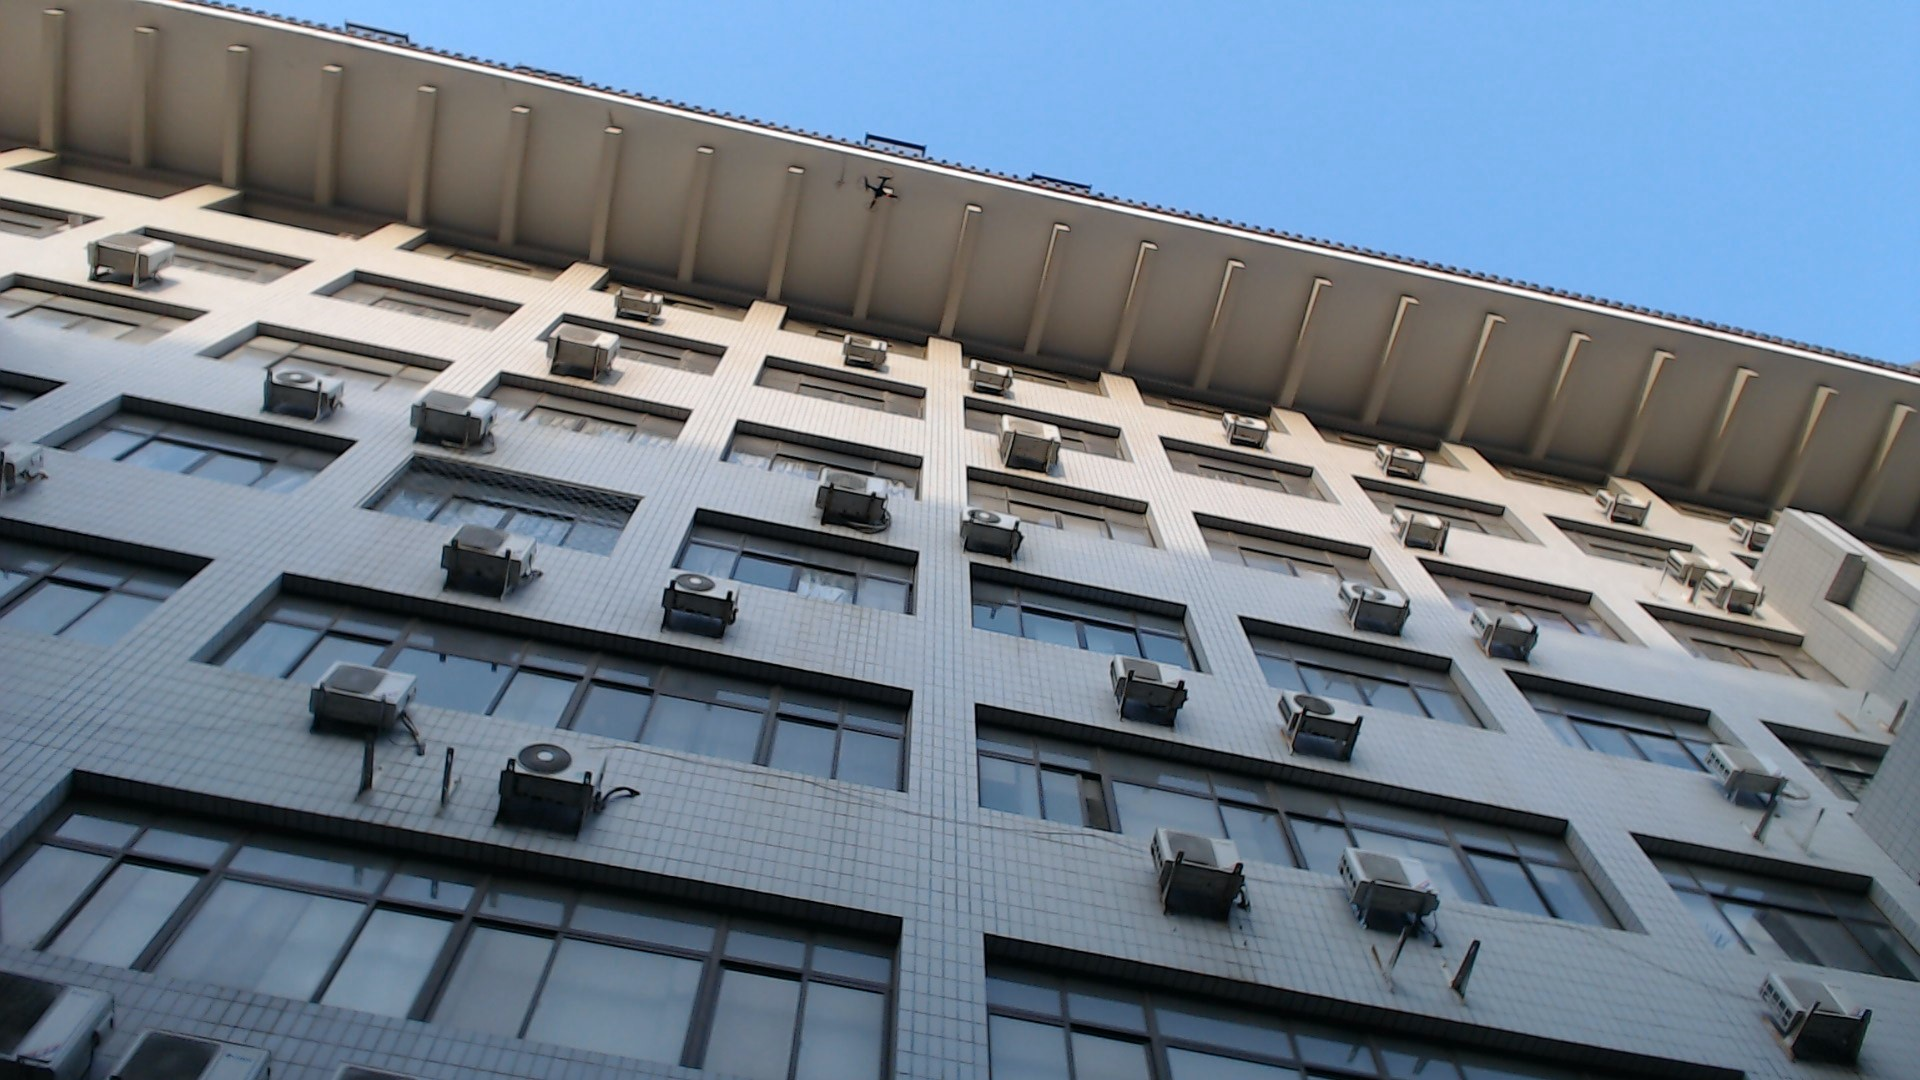drone: (852, 169, 906, 214)
